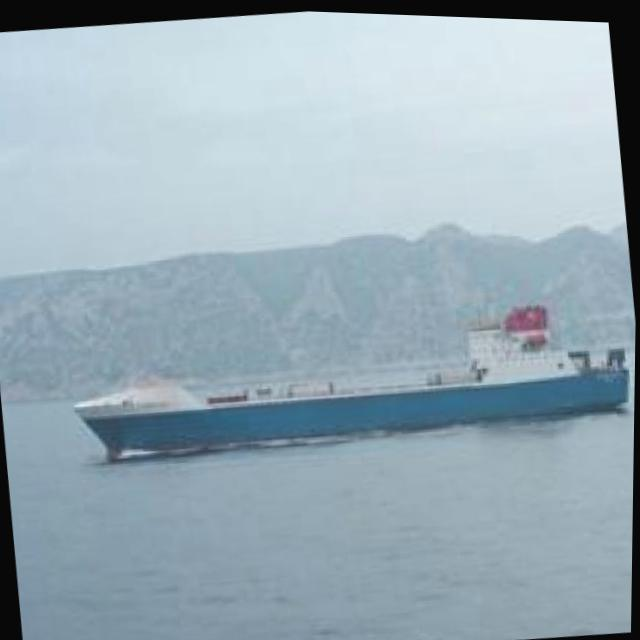ship2: (75, 300, 632, 460)
